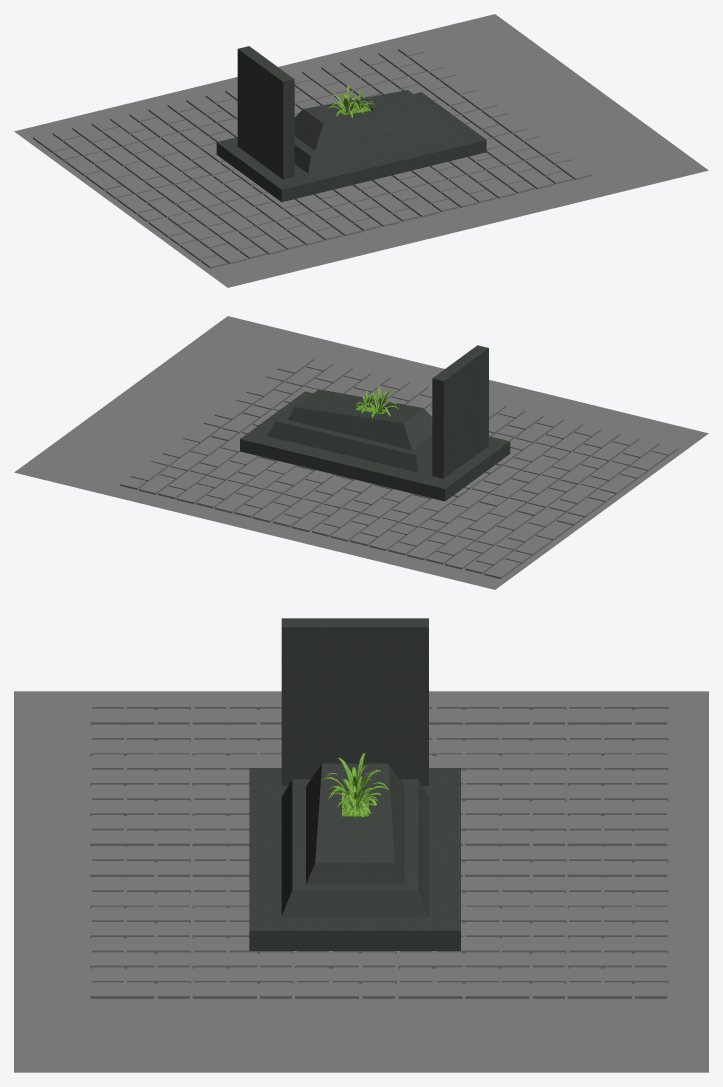
Rendered from product5.glb.
3 views of the same model, one above another, from view 1: azimuth 30°, elevation 25°; view 2: azimuth 150°, elevation 25°; view 3: azimuth 270°, elevation 25° (orthographic). The views are drawn at different scales.
Parts seen in each view (by area): view 1: root, Component#15, Component#12, Component#14; view 2: root, Component#15, Component#12, Component#14; view 3: root, Component#15, Component#12, Component#14, object 26, object 28, object 31, object 88, object 90, object 150, object 151, object 223 (+71 smaller).
Part boxes in pixels (x1,y1,x2,y2): root: (14,14,708,287); Component#15: (216,46,486,202); Component#12: (294,90,438,150); Component#14: (294,109,459,173); root: (14,316,708,589); Component#15: (240,345,510,501); Component#12: (288,389,432,449); Component#14: (267,408,432,472); root: (14,691,708,1072); Component#15: (249,618,460,950); Component#12: (306,763,404,884); Component#14: (281,779,428,916); object 26: (192,982,256,998); object 28: (90,982,154,998); object 31: (398,982,462,998); object 88: (567,982,631,998); object 90: (465,982,529,998); object 150: (465,708,529,724); object 151: (567,708,631,724); object 223: (90,708,154,724).
Size of the model in its own units: 8.45 by 1.88 by 6.5.
Materials: 6 (2 with a texture image).
